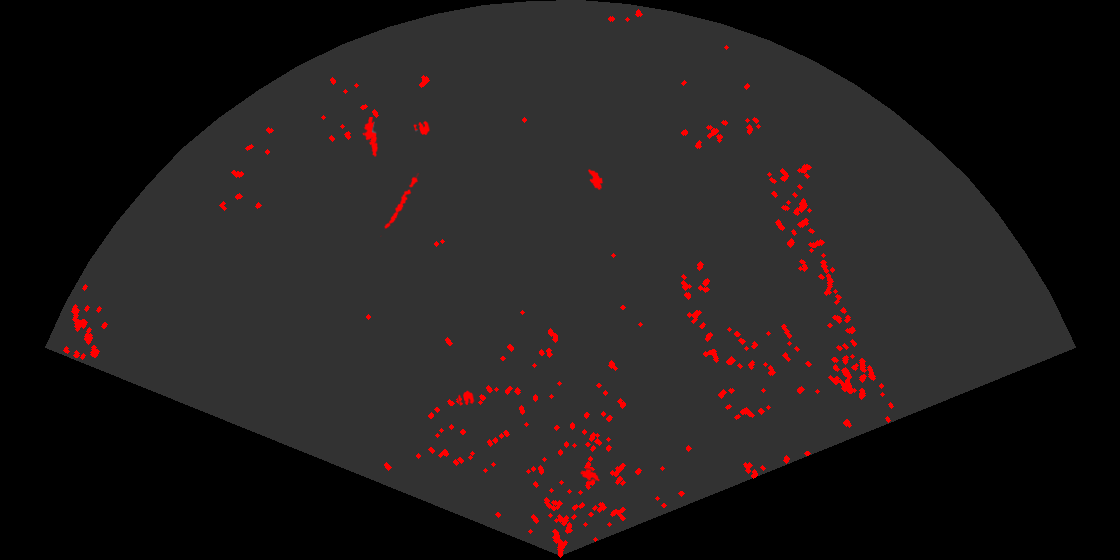AUV: (586, 168, 605, 192), (579, 467, 602, 483)
ball: (412, 119, 432, 137), (457, 389, 476, 407)
chain: (380, 173, 421, 237)
frogman: (361, 117, 380, 157)
